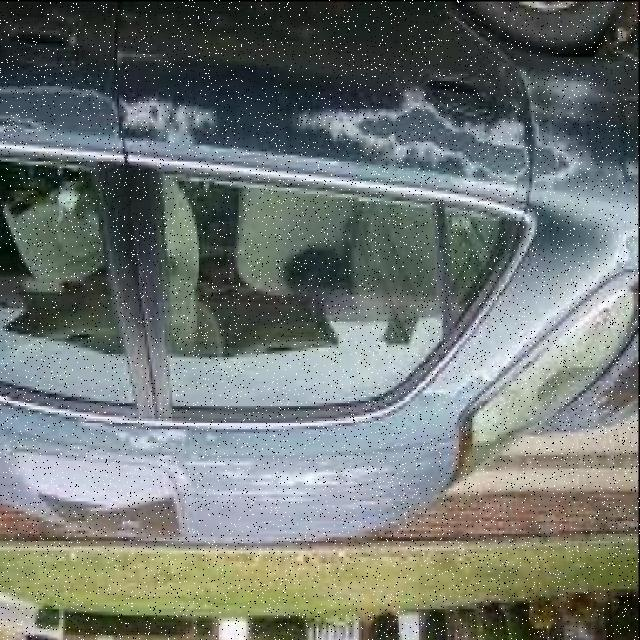damage: (311, 96, 589, 204), (192, 450, 398, 499), (108, 93, 226, 152), (85, 419, 228, 459)
